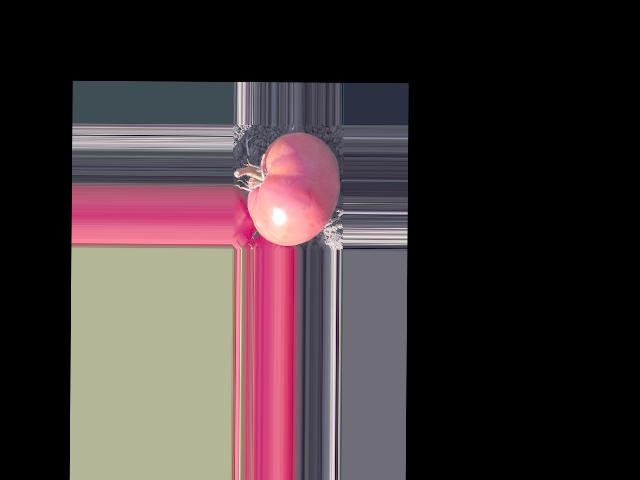tomato: (247, 131, 340, 246)
